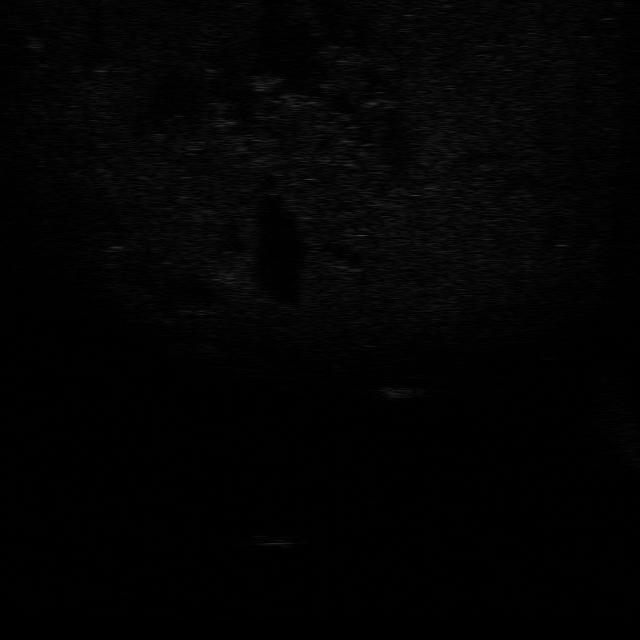cube: (244, 533, 305, 547)
square cage: (375, 386, 426, 399)
